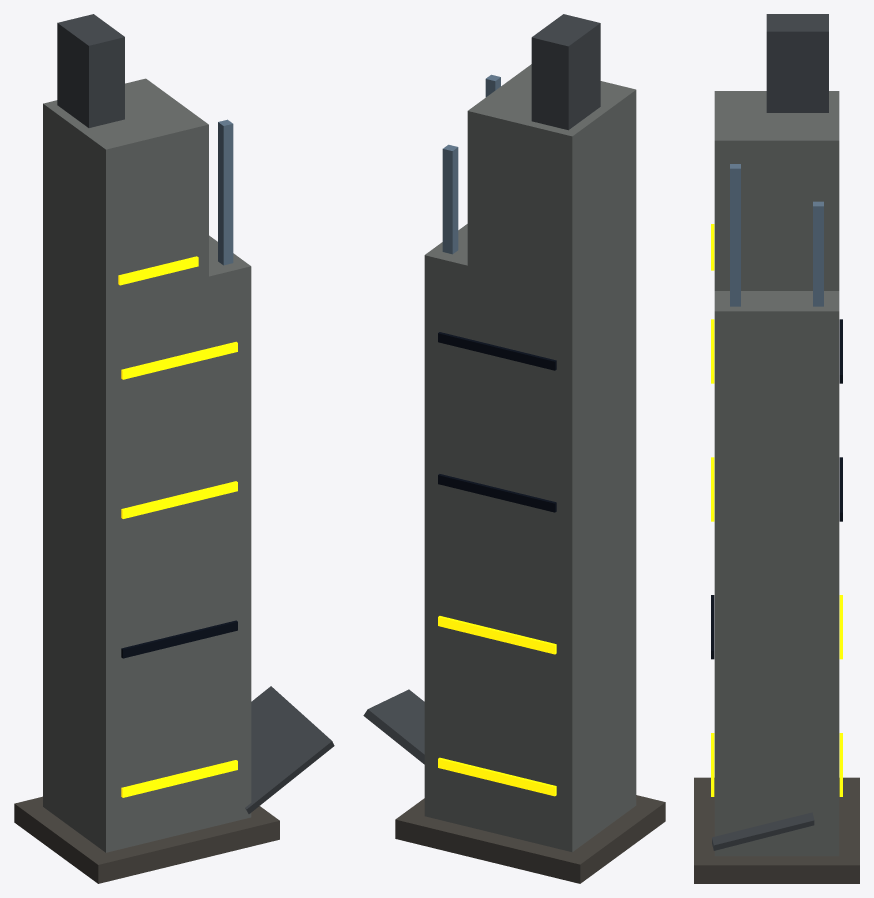
Rendered from highrise_a_low.glb.
3 renders of one model, left to right at view 1: azimuth 30°, elevation 25°; view 2: azimuth 150°, elevation 25°; view 3: azimuth 270°, elevation 25°, orthographic. The views are drawn at different scales.
Visible parts, largest first — view 1: Shell, Upper shell, Plinth, Top stub, Collapsed floor, Exposed column, Window strip.001, Window strip.003, Window strip, Window strip.002, Window strip.008; view 2: Shell, Upper shell, Plinth, Top stub, Collapsed floor, Exposed column.001, Window strip.007, Window strip.006, Window strip.005, Window strip.004; view 3: Shell, Upper shell, Plinth, Top stub, Exposed column, Collapsed floor, Exposed column.001.
Part boxes in pixels (x1,y1,x2,y2): Shell: [43, 235, 251, 852]; Upper shell: [43, 78, 208, 301]; Plinth: [14, 796, 279, 883]; Top stub: [57, 14, 124, 127]; Collapsed floor: [245, 686, 334, 813]; Exposed column: [218, 119, 233, 265]; Window strip.001: [121, 620, 237, 658]; Window strip.003: [121, 341, 237, 379]; Window strip: [121, 760, 237, 797]; Window strip.002: [121, 481, 237, 518]; Window strip.008: [118, 256, 198, 285]; Shell: [424, 224, 636, 852]; Upper shell: [467, 64, 636, 291]; Plinth: [395, 795, 665, 883]; Top stub: [531, 14, 600, 130]; Collapsed floor: [363, 689, 424, 764]; Exposed column.001: [442, 144, 458, 254]; Window strip.007: [438, 332, 556, 370]; Window strip.006: [438, 474, 556, 512]; Window strip.005: [438, 616, 556, 654]; Window strip.004: [438, 757, 556, 796]; Shell: [714, 291, 839, 856]; Upper shell: [714, 91, 839, 290]; Plinth: [694, 777, 859, 883]; Top stub: [766, 14, 828, 112]; Exposed column: [730, 164, 740, 306]; Collapsed floor: [712, 812, 814, 850]; Exposed column.001: [813, 201, 823, 306].
Size of the model in its own units: 4.07 by 12.7 by 2.4.
